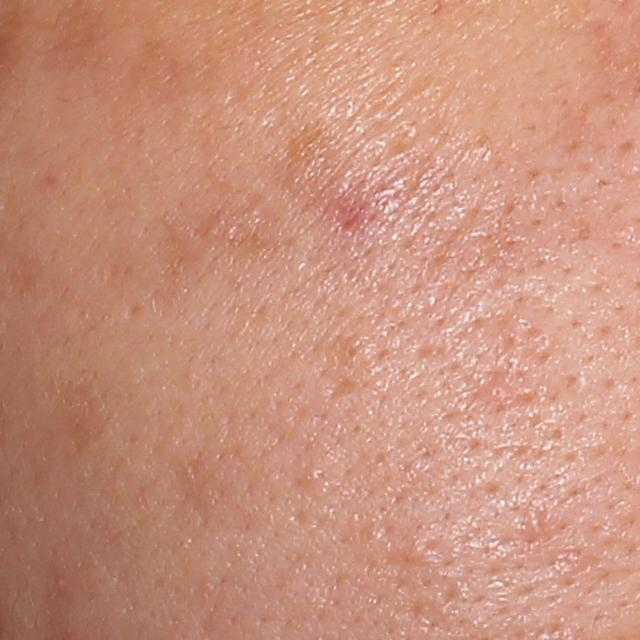atrophic_scar: (314, 360, 355, 404), (126, 301, 145, 319)
comedo: (298, 463, 326, 489)
